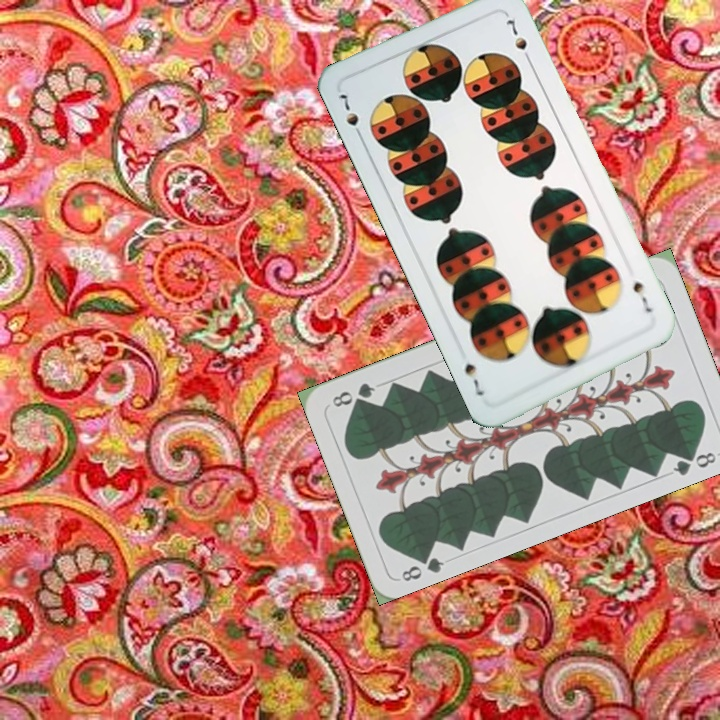G8: (397, 547, 447, 585)
S7: (333, 90, 366, 143), (628, 277, 655, 315)
